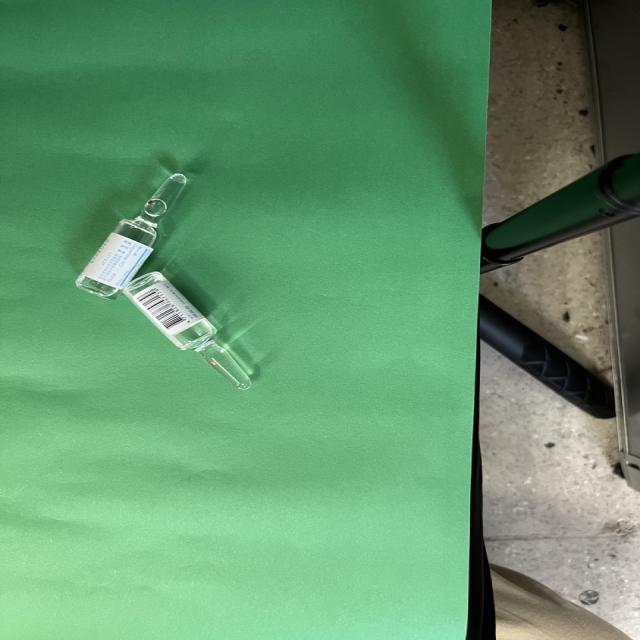Ampoules: (76, 174, 251, 390)
